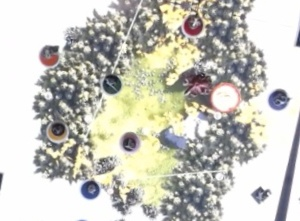blue: (77, 174, 104, 201)
green: (98, 68, 125, 97)
orange: (34, 41, 63, 70)
pink: (116, 126, 146, 156)
red: (177, 10, 208, 40)
violet: (264, 84, 294, 113)
yellow: (41, 114, 73, 146)
